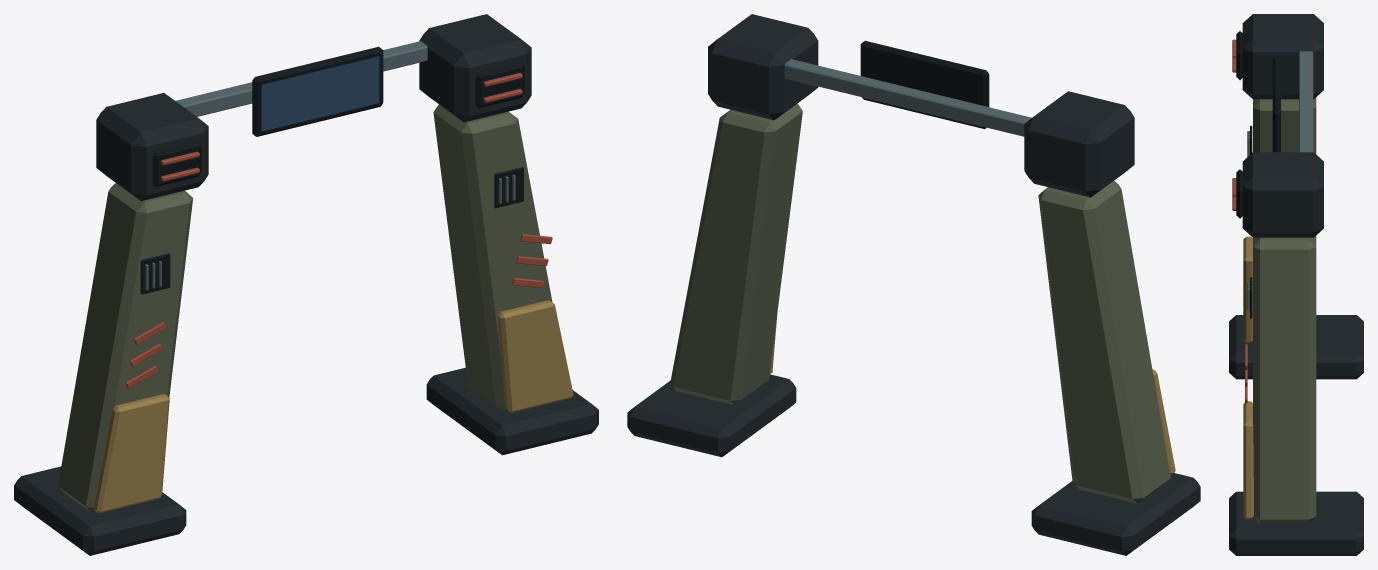
The model's file is JAMMER_GATE_FRAME.lo.glb.
3 views of the same model, side by side, from view 1: azimuth 30°, elevation 25°; view 2: azimuth 150°, elevation 25°; view 3: azimuth 270°, elevation 25° (orthographic). The views are drawn at different scales.
Parts seen in each view (by area): view 1: Body_Mesh, SignSurface; view 2: Body_Mesh; view 3: Body_Mesh.
Part boxes in pixels (x1,y1,x2,y2): Body_Mesh: [14, 14, 598, 555]; SignSurface: [261, 56, 379, 131]; Body_Mesh: [627, 14, 1200, 555]; Body_Mesh: [1229, 14, 1363, 555].
Size of the model in its own units: 4.38 by 3.37 by 1.13.
